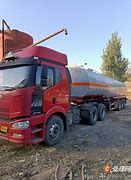oil truck: (0, 46, 128, 149)
